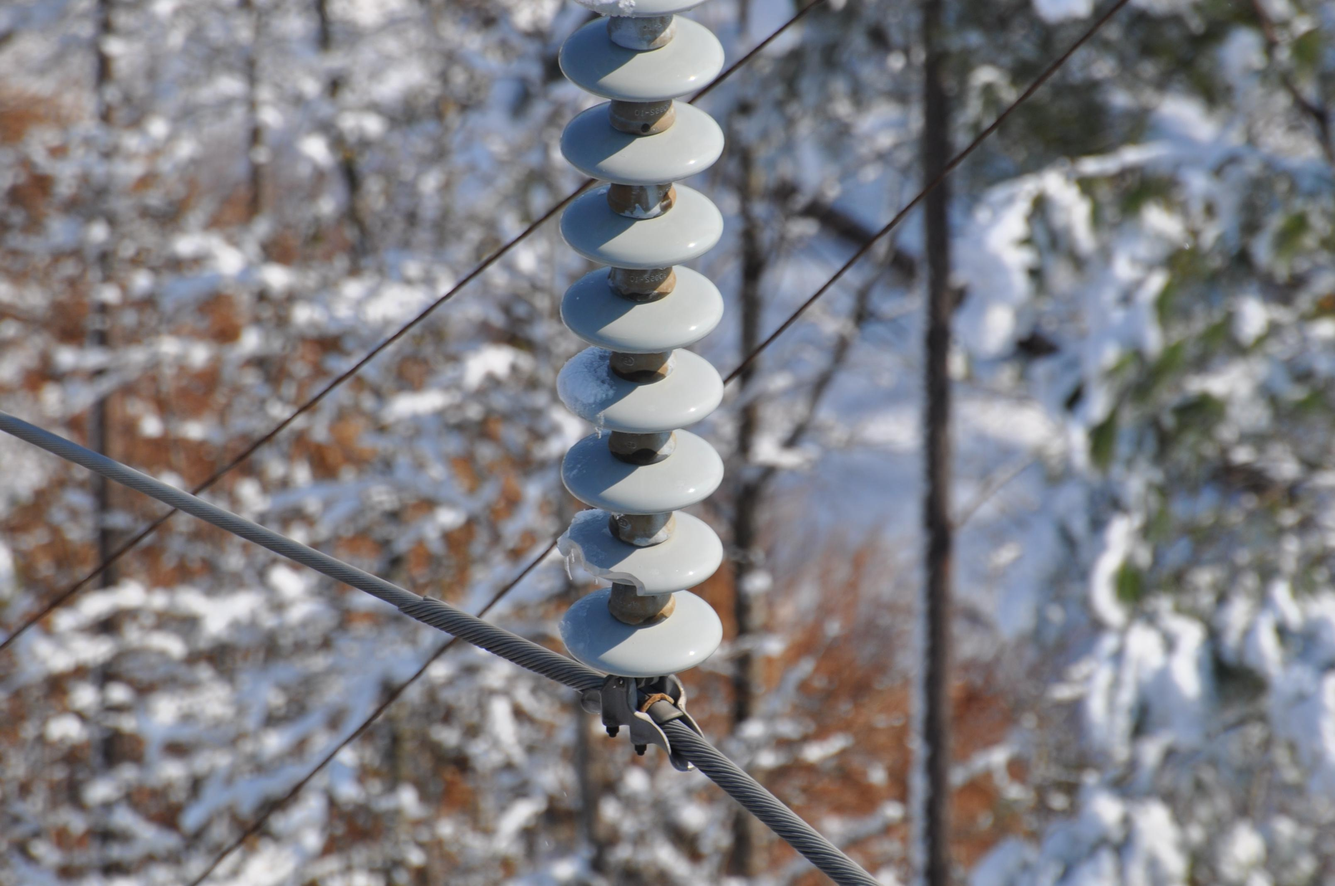damaged: (562, 511, 678, 596)
insulator: (558, 0, 729, 694)
